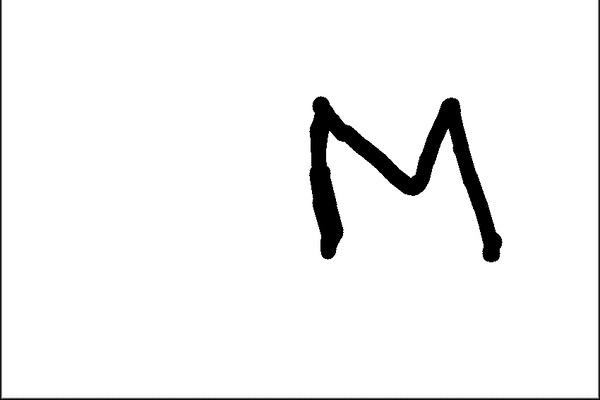M: (300, 91, 504, 263)
